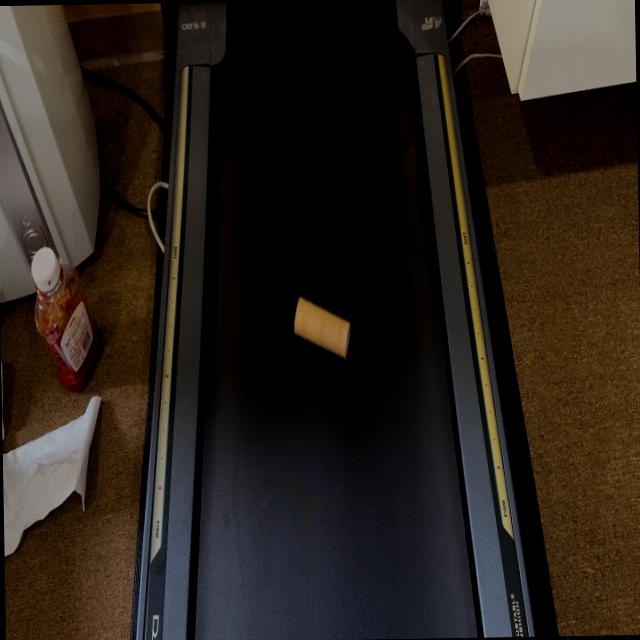Recycle: (290, 294, 352, 362)
